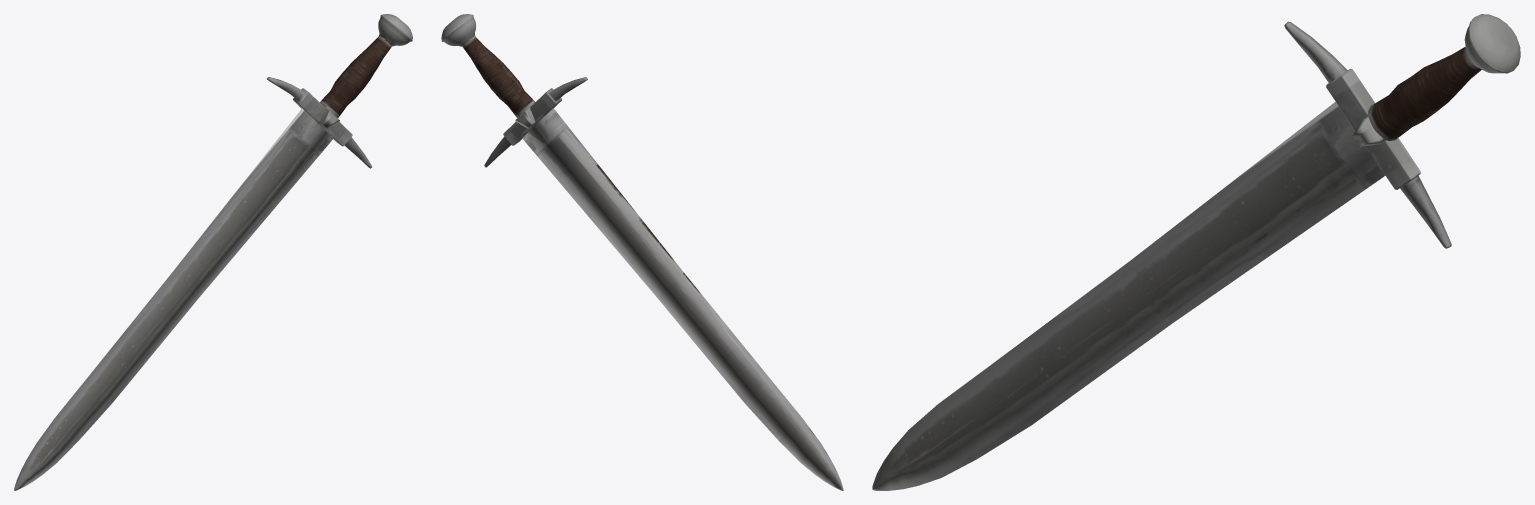
The model's file is swordnight.fbx.
The picture shows the model from 3 angles, left to right: view 1: azimuth 30°, elevation 25°; view 2: azimuth 150°, elevation 25°; view 3: azimuth 330°, elevation 25°; orthographic projection. The views are drawn at different scales.
Visible parts, largest first — view 1: tripo_node_f9a790d0; view 2: tripo_node_f9a790d0; view 3: tripo_node_f9a790d0.
Part boxes in pixels (x1,y1,x2,y2): tripo_node_f9a790d0: (14,14,412,490); tripo_node_f9a790d0: (441,14,843,490); tripo_node_f9a790d0: (872,14,1520,490).
Size of the model in its own units: 49.21 by 4.4 by 45.41.
Materials: 2 (2 with a texture image).
